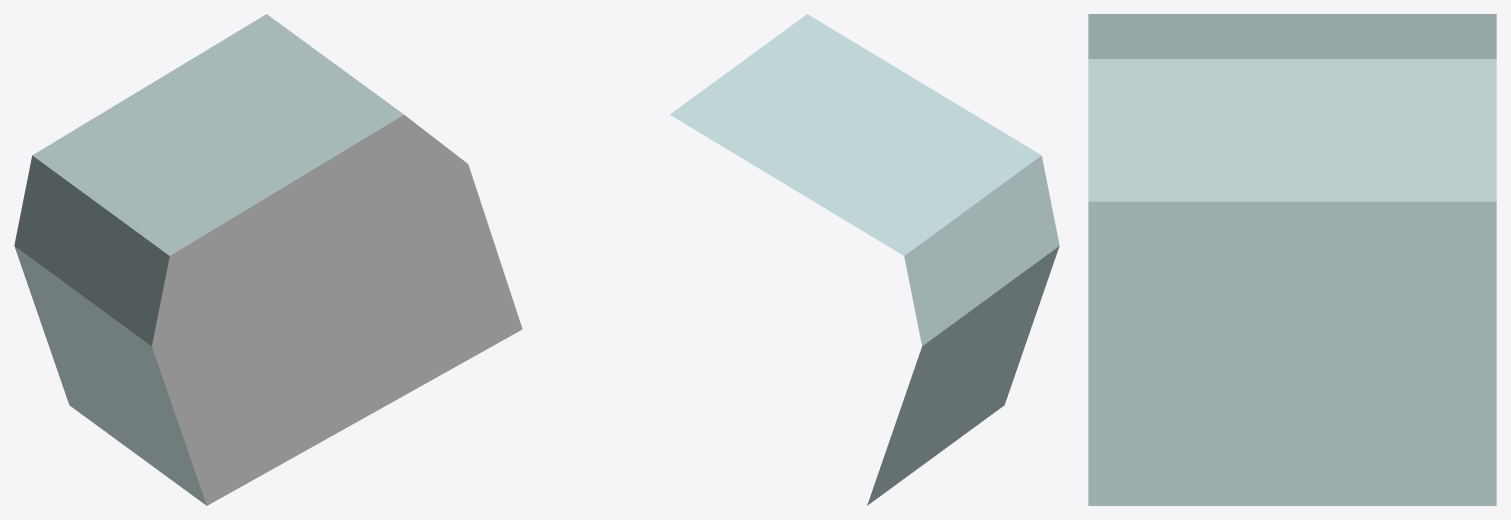
3 views of the same model, side by side, from view 1: azimuth 30°, elevation 25°; view 2: azimuth 150°, elevation 25°; view 3: azimuth 270°, elevation 25° (orthographic). The views are drawn at different scales.
Parts seen in each view (by area): view 1: 0_2_2_3_2_3_1_2_2; view 2: 0_2_2_3_2_3_1_2_2; view 3: 0_2_2_3_2_3_1_2_2.
Boxes of the visible parts, x1,y1,x2,y2 form: 0_2_2_3_2_3_1_2_2: (14, 14, 522, 505); 0_2_2_3_2_3_1_2_2: (670, 14, 1059, 505); 0_2_2_3_2_3_1_2_2: (1088, 14, 1496, 505).
Size of the model in its own units: 4.67 by 4.13 by 3.
